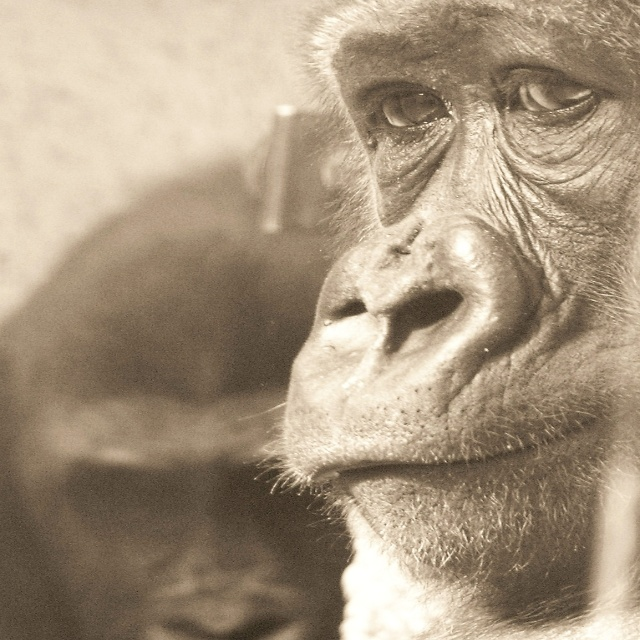Monkey: (260, 0, 639, 640), (0, 114, 352, 639)
